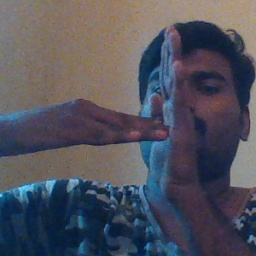Z: (74, 26, 200, 193)
